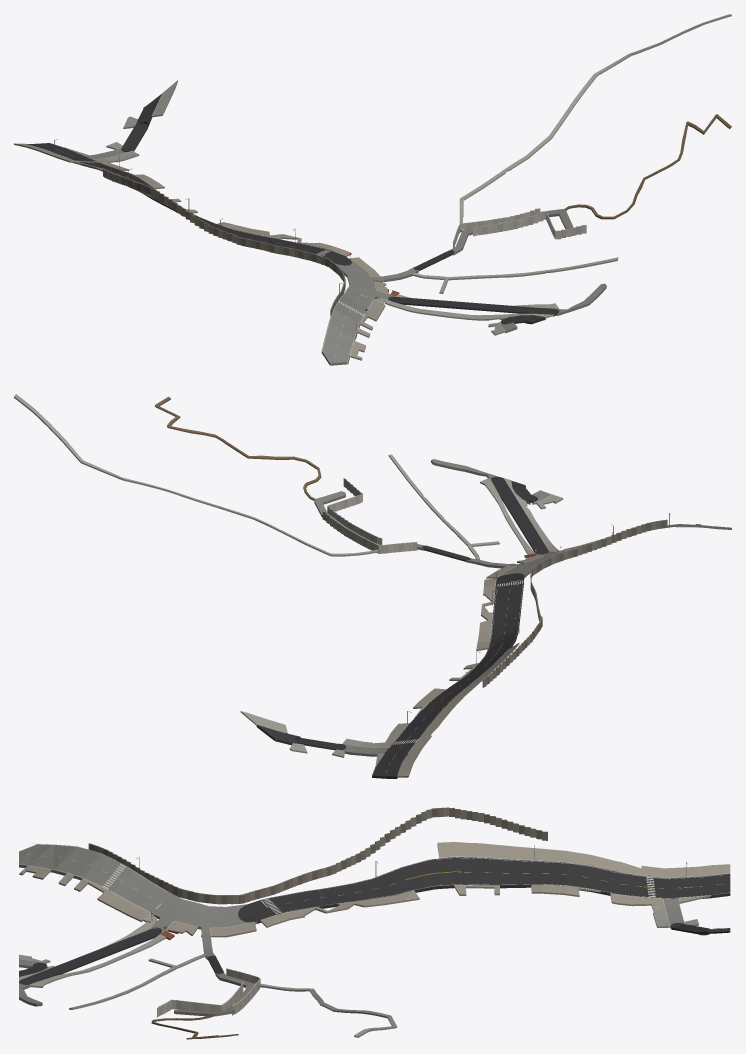
The picture shows the model from 3 angles, top to bottom: view 1: azimuth 30°, elevation 25°; view 2: azimuth 150°, elevation 25°; view 3: azimuth 270°, elevation 25°; orthographic projection. The views are drawn at different scales.
Size of the model in its own units: 295 by 66.26 by 294.
